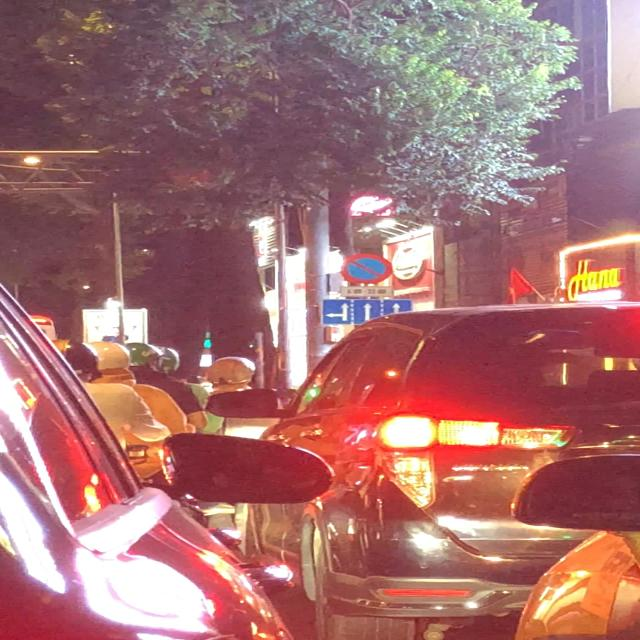Bien bao cam do xe: (334, 253, 396, 286)
